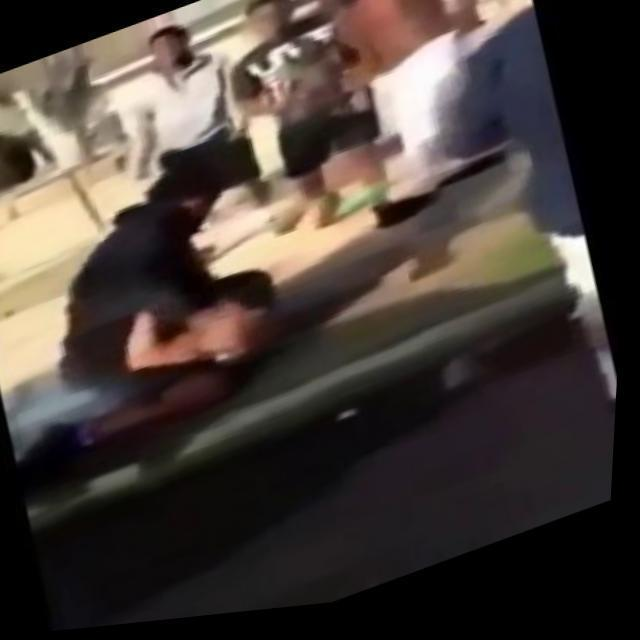fight: (0, 132, 322, 481)
